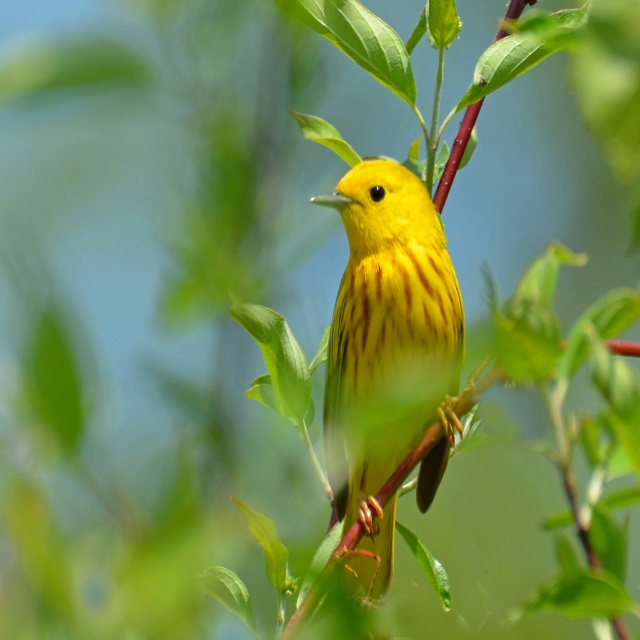Canary: (309, 141, 482, 603)
